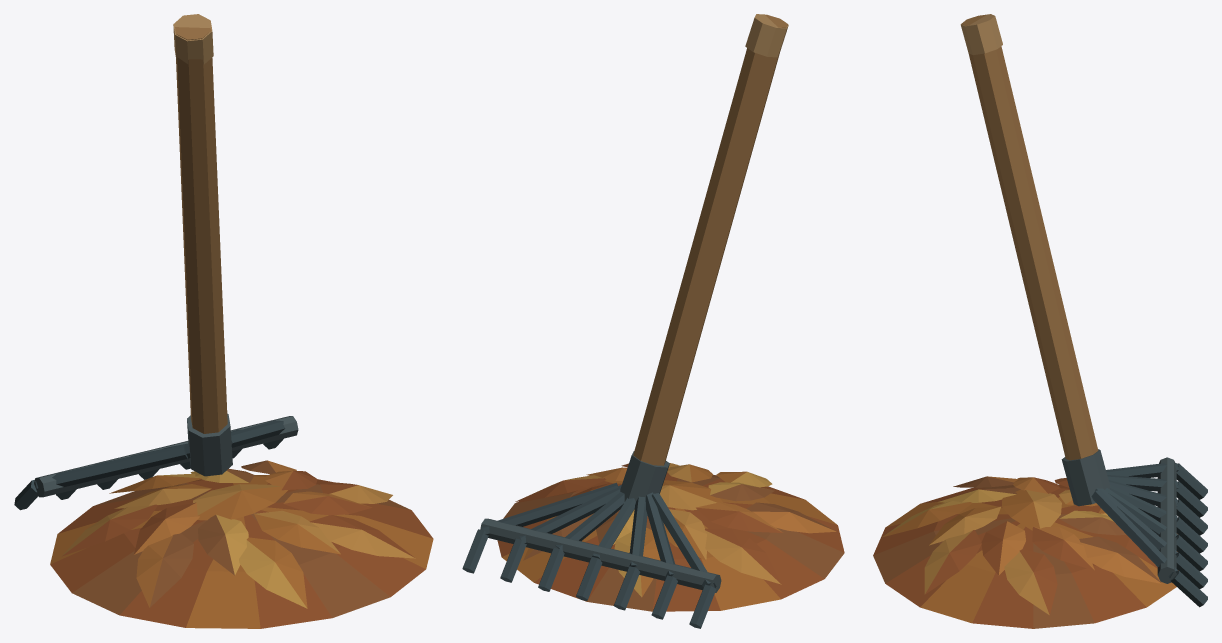
File: LeafRake.glb
The picture shows the model from 3 angles, left to right: view 1: azimuth 30°, elevation 25°; view 2: azimuth 150°, elevation 25°; view 3: azimuth 270°, elevation 25°; orthographic projection. The views are drawn at different scales.
Parts seen in each view (by area): view 1: LeafRake_Arrangement; view 2: LeafRake_Arrangement; view 3: LeafRake_Arrangement.
Boxes of the visible parts, x1=… form: LeafRake_Arrangement: x1=14, y1=14, x2=433, y2=628; LeafRake_Arrangement: x1=462, y1=14, x2=844, y2=628; LeafRake_Arrangement: x1=873, y1=14, x2=1207, y2=628.
Bounding box in the file's own units: 0.656 × 1.06 × 0.6334.
